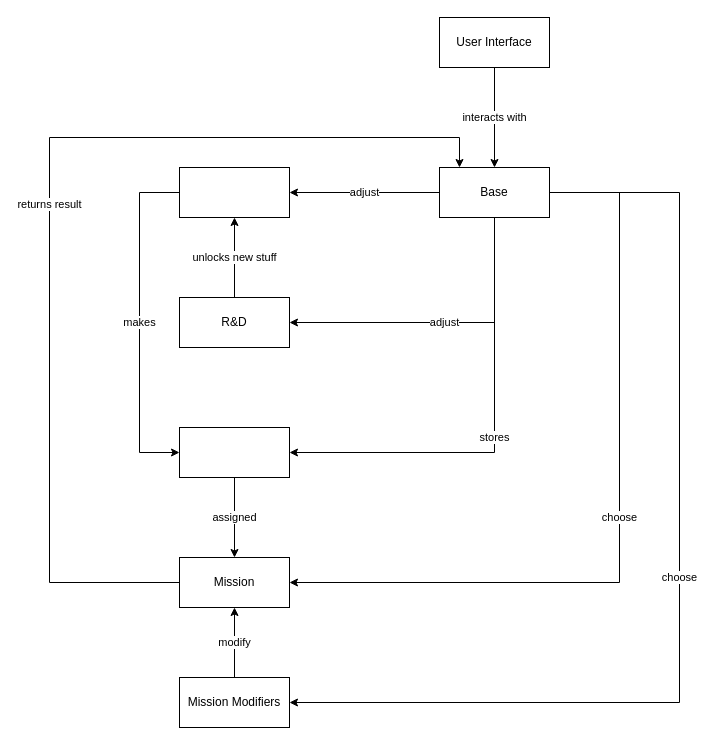
This 714x745 diagram has some shape labels left out. Each missing label, with the centre of its shape:
"Bomber" goes at (234,452).
"Production" goes at (234,192).
